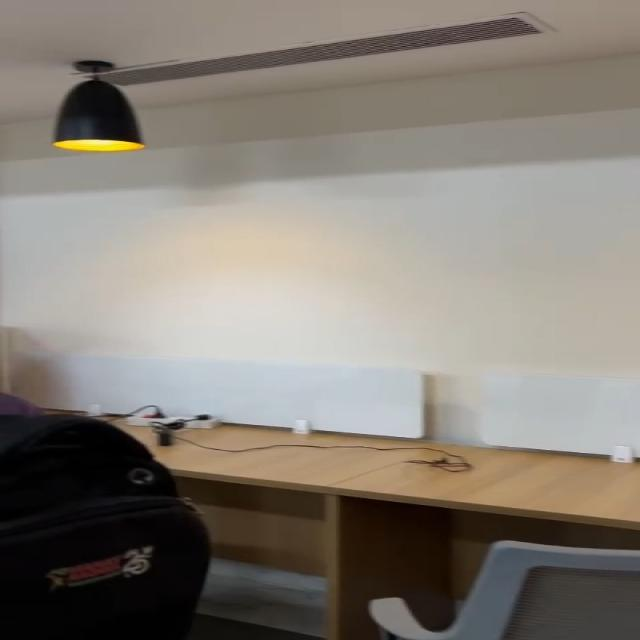furniture: (358, 497, 640, 640)
wall: (0, 138, 640, 360)
